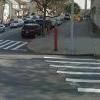Crosswalk: (43, 49, 100, 100)
